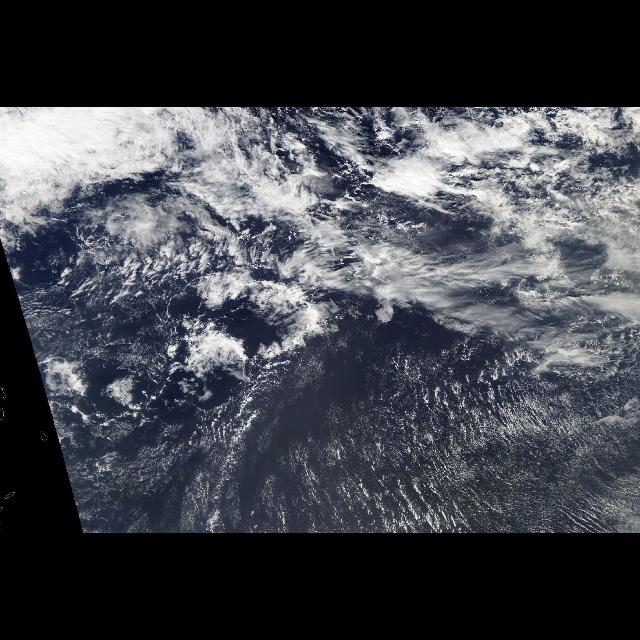Sugar: (86, 349, 640, 533)
